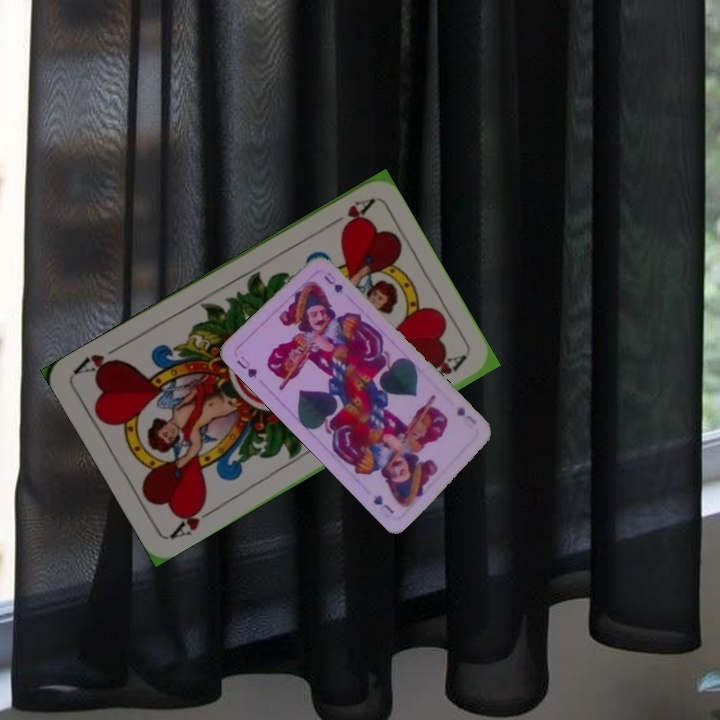GU: (232, 352, 260, 381), (452, 402, 480, 428)
HA: (166, 498, 219, 542), (321, 194, 376, 233)
